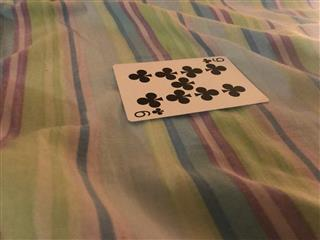NineOfClubs: (111, 54, 269, 121)
